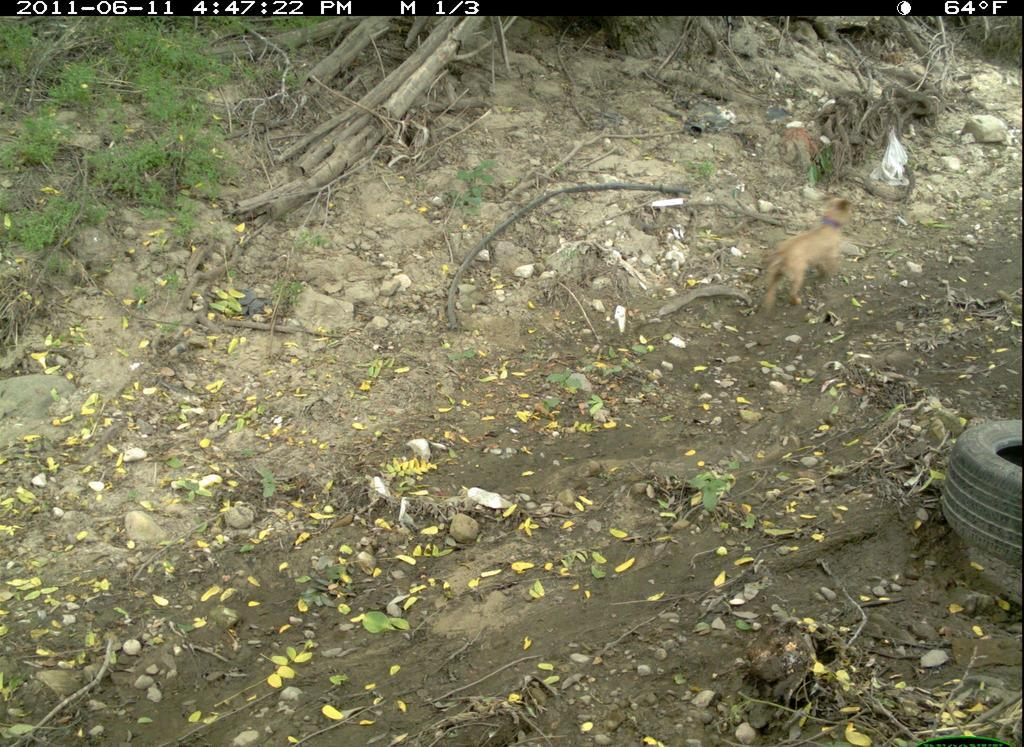dog: (757, 190, 868, 315)
